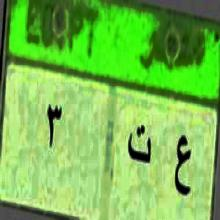3: (44, 95, 65, 153)
ain: (172, 125, 195, 201)
taa: (126, 114, 154, 171)
